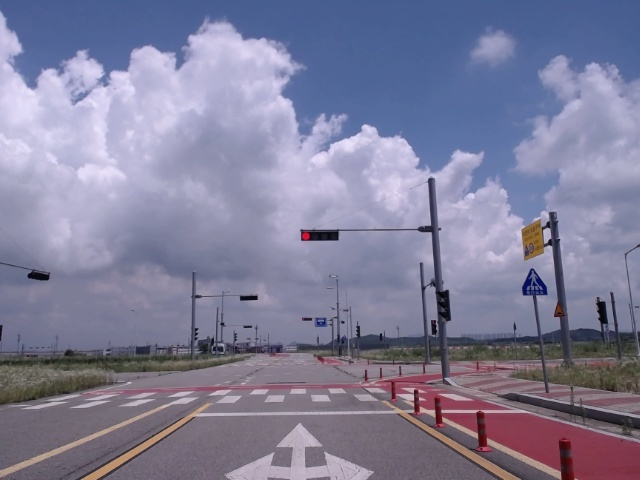red_4: (301, 231, 338, 241)
